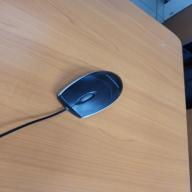mouse: (56, 70, 125, 120)
